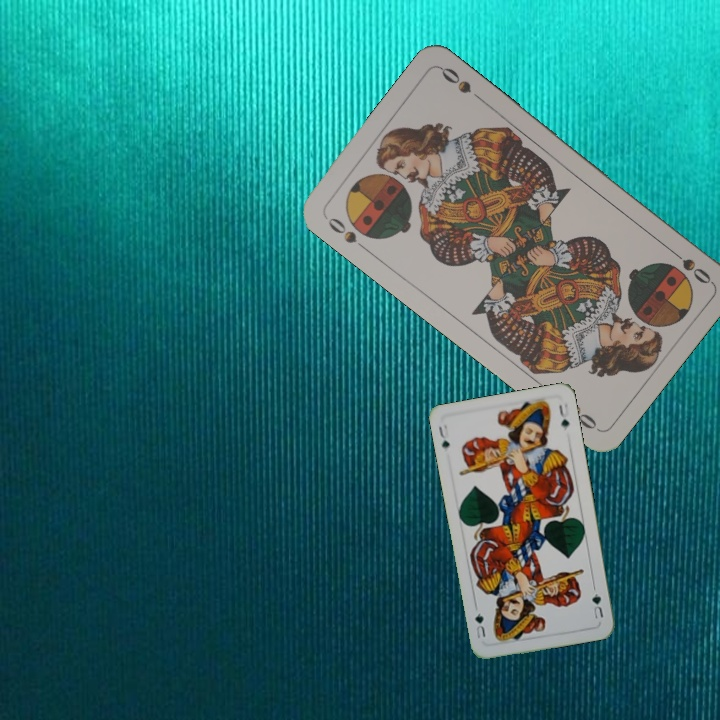GU: (588, 589, 606, 621), (434, 420, 452, 452)
SO: (664, 244, 714, 287), (323, 213, 371, 254)
